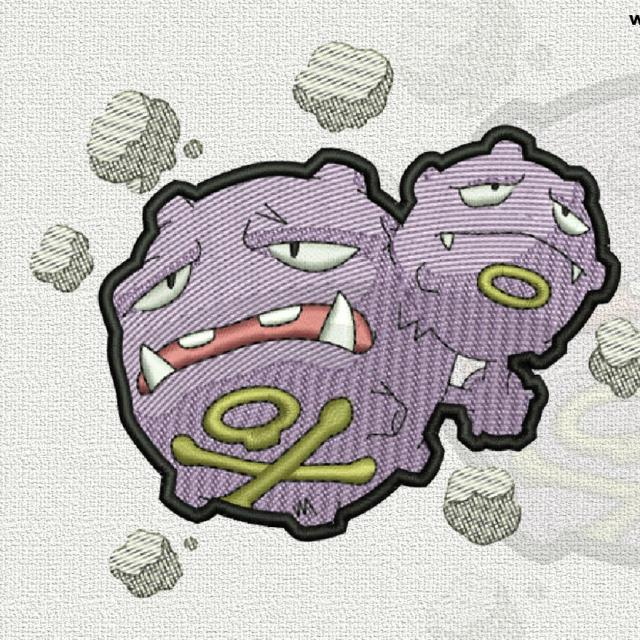Weezing: (106, 161, 620, 523)
